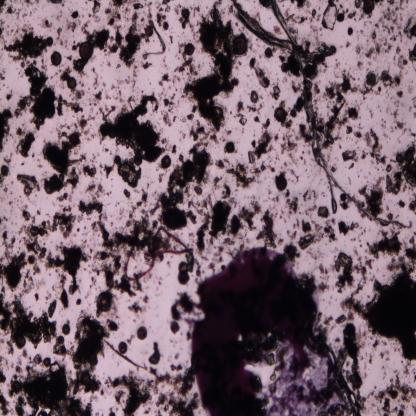Background material: (172, 0, 240, 132), (357, 258, 416, 363), (101, 92, 166, 165), (158, 148, 214, 229), (7, 367, 94, 415), (356, 0, 408, 70), (0, 293, 58, 345), (42, 242, 91, 293), (92, 216, 127, 286), (318, 74, 353, 144), (154, 363, 200, 415), (361, 376, 416, 415), (73, 310, 109, 368), (104, 375, 154, 415), (0, 226, 28, 292), (21, 206, 50, 260), (210, 201, 245, 240), (40, 137, 84, 166), (120, 12, 143, 66), (170, 294, 199, 336), (125, 188, 155, 228), (362, 128, 389, 168), (5, 32, 48, 57), (357, 178, 385, 216), (34, 86, 56, 132), (256, 207, 278, 252), (367, 231, 403, 258), (334, 296, 367, 325), (114, 155, 143, 187), (21, 60, 46, 97), (379, 70, 403, 107), (336, 0, 357, 41), (347, 342, 364, 392), (194, 214, 211, 264), (80, 25, 109, 54), (51, 206, 76, 239), (354, 253, 374, 294), (247, 129, 273, 160), (228, 162, 256, 190), (299, 218, 322, 252), (388, 112, 415, 140), (104, 0, 130, 29), (190, 123, 220, 148), (14, 171, 40, 199), (272, 132, 298, 160), (241, 198, 263, 231), (172, 4, 195, 35), (280, 54, 304, 83), (337, 251, 354, 291), (206, 242, 226, 275), (250, 58, 271, 89), (23, 264, 46, 292), (54, 94, 84, 115), (154, 0, 172, 33), (0, 106, 12, 154), (42, 171, 65, 196), (247, 88, 263, 122), (401, 233, 416, 269), (403, 146, 416, 187), (84, 180, 108, 201), (17, 130, 35, 158), (397, 43, 416, 69), (163, 98, 180, 127), (336, 216, 358, 238), (70, 115, 92, 137), (119, 277, 142, 298), (172, 58, 200, 75), (54, 336, 74, 359), (78, 199, 103, 217), (57, 276, 70, 310), (280, 162, 300, 183), (129, 296, 151, 315), (386, 172, 403, 196), (109, 79, 126, 103), (342, 146, 358, 171), (14, 96, 32, 118), (148, 340, 162, 368), (324, 217, 338, 245), (356, 84, 379, 101), (303, 189, 318, 215), (290, 95, 306, 119), (298, 122, 313, 147), (20, 9, 35, 34), (193, 184, 208, 208), (402, 15, 416, 40), (236, 100, 248, 128), (65, 168, 80, 190), (284, 195, 299, 217), (109, 29, 122, 54), (72, 58, 89, 77), (181, 106, 199, 123), (15, 350, 27, 374), (46, 298, 58, 320), (91, 66, 102, 90), (34, 353, 50, 369), (90, 0, 102, 21), (158, 70, 172, 88), (287, 224, 300, 243), (216, 156, 231, 172), (347, 104, 361, 121), (0, 390, 9, 416), (254, 162, 267, 179), (400, 358, 411, 378), (56, 26, 66, 47), (221, 182, 233, 199), (408, 192, 416, 217), (61, 65, 72, 83), (0, 356, 7, 384), (82, 164, 97, 177), (291, 79, 304, 94), (317, 280, 330, 295), (67, 21, 81, 34), (272, 82, 282, 100), (319, 262, 329, 279), (107, 317, 120, 330), (318, 206, 330, 220), (71, 89, 85, 101), (104, 164, 115, 179), (5, 338, 14, 356), (122, 186, 132, 202), (344, 122, 354, 138), (57, 191, 69, 204), (81, 371, 91, 386), (407, 95, 416, 111), (266, 191, 279, 202), (396, 197, 406, 211), (273, 24, 283, 38), (132, 1, 146, 11), (49, 0, 66, 8), (94, 89, 103, 104), (212, 174, 222, 187), (142, 59, 152, 71), (42, 18, 52, 30), (263, 117, 272, 130), (6, 5, 16, 16), (70, 9, 80, 20), (353, 128, 362, 140), (16, 127, 26, 137), (0, 68, 6, 83), (75, 296, 82, 307), (33, 291, 40, 302), (64, 53, 73, 61), (6, 90, 13, 100), (71, 42, 78, 52), (0, 0, 7, 10), (386, 164, 392, 174), (170, 33, 173, 44)
Cellulose filter fibre: (270, 1, 336, 188), (232, 0, 337, 58), (333, 180, 410, 230), (142, 19, 168, 56)
Cotton: (124, 226, 187, 280)
Diatom: (233, 34, 248, 58), (96, 292, 112, 312), (78, 42, 94, 59), (51, 50, 62, 68), (363, 0, 375, 16), (274, 107, 286, 122), (136, 325, 147, 341), (183, 43, 195, 57), (276, 177, 288, 191), (68, 132, 80, 146), (13, 336, 27, 348), (117, 340, 128, 355), (178, 271, 189, 286), (346, 322, 355, 338), (161, 153, 171, 167), (144, 25, 153, 39), (0, 164, 9, 178), (394, 152, 404, 164), (366, 73, 376, 85), (62, 323, 71, 336), (226, 141, 235, 154), (68, 77, 76, 90), (44, 36, 53, 47), (134, 156, 143, 166), (340, 192, 347, 202), (265, 49, 272, 58)
Pen: (188, 246, 353, 414)
